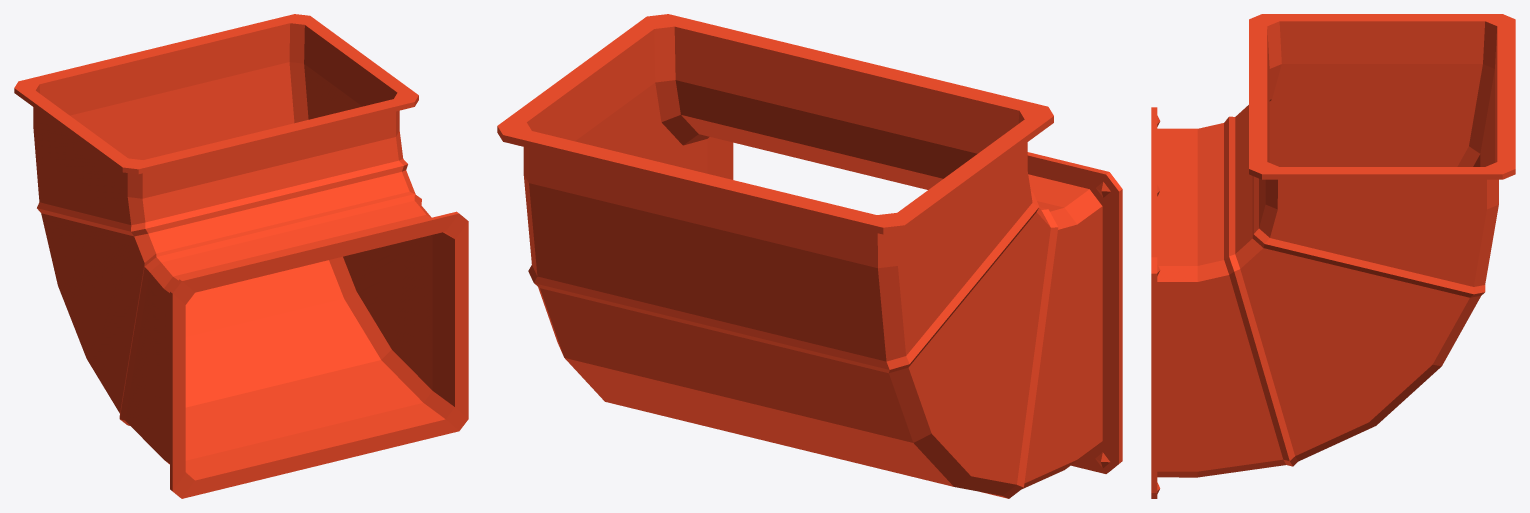
The model's file is SM_Vent_Elevation_A_City.fbx.
3 views of the same model, side by side, from view 1: azimuth 30°, elevation 25°; view 2: azimuth 150°, elevation 25°; view 3: azimuth 270°, elevation 25° (orthographic). The views are drawn at different scales.
Visible parts, largest first — view 1: SM_Vent_Elevation_A_City; view 2: SM_Vent_Elevation_A_City; view 3: SM_Vent_Elevation_A_City.
Part boxes in pixels (box(x1,y1,x2,y2)): SM_Vent_Elevation_A_City: box(14, 14, 468, 498); SM_Vent_Elevation_A_City: box(497, 14, 1122, 498); SM_Vent_Elevation_A_City: box(1151, 14, 1515, 498).
Bounding box in the file's own units: 0.8224 × 0.789 × 0.7896.
